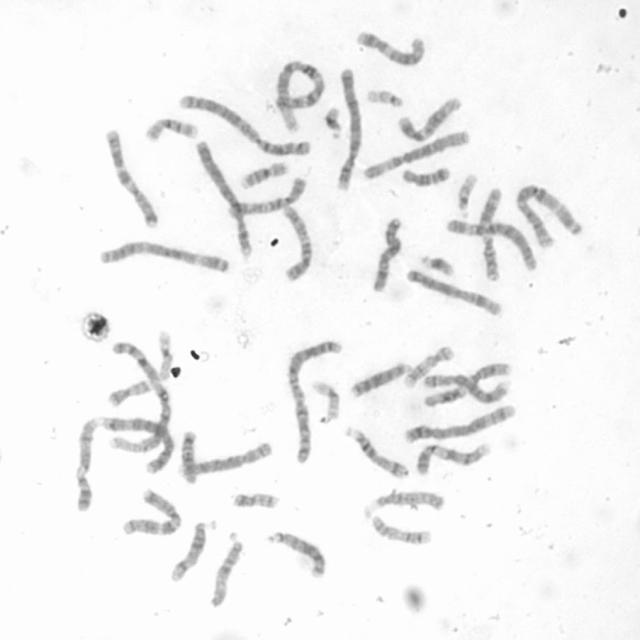A1: (107, 341, 173, 454), (272, 59, 326, 132)
A2: (179, 93, 311, 157), (286, 338, 343, 466)
A3: (97, 239, 233, 277), (513, 182, 583, 249)
B4: (192, 137, 253, 258), (336, 67, 364, 192)
B5: (403, 403, 518, 446), (102, 414, 175, 474)
C10: (227, 174, 307, 218), (280, 205, 314, 282)
C11: (422, 361, 512, 406), (476, 186, 504, 282)
C12: (395, 96, 463, 143), (355, 30, 427, 68)
C6: (362, 129, 471, 181), (444, 217, 538, 272)
C7: (99, 128, 161, 233), (119, 486, 184, 538)
C8: (182, 440, 274, 478), (422, 372, 514, 405)
C9: (72, 415, 106, 514), (414, 441, 492, 476)
D13: (263, 530, 328, 581), (347, 362, 412, 399)
D14: (344, 424, 410, 480), (169, 516, 218, 584)
D15: (206, 531, 248, 607), (362, 488, 446, 518)
E16: (239, 157, 289, 192), (143, 117, 199, 146)
E17: (402, 344, 456, 390), (370, 515, 432, 548)
E18: (180, 429, 201, 486), (401, 166, 452, 188)
F19: (308, 378, 341, 425), (155, 328, 174, 382)
F20: (107, 378, 154, 408), (231, 490, 281, 510)
G21: (418, 252, 457, 278), (322, 105, 344, 142)
G22: (455, 170, 478, 220), (366, 86, 406, 111)
X: (407, 268, 504, 319), (370, 216, 405, 294)
